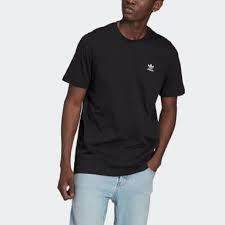Tshirt: (61, 21, 186, 177)
